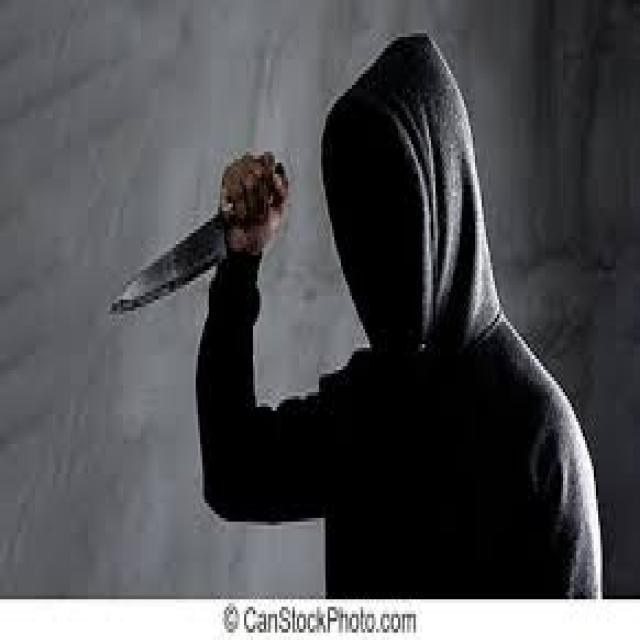faca: (105, 136, 288, 330)
